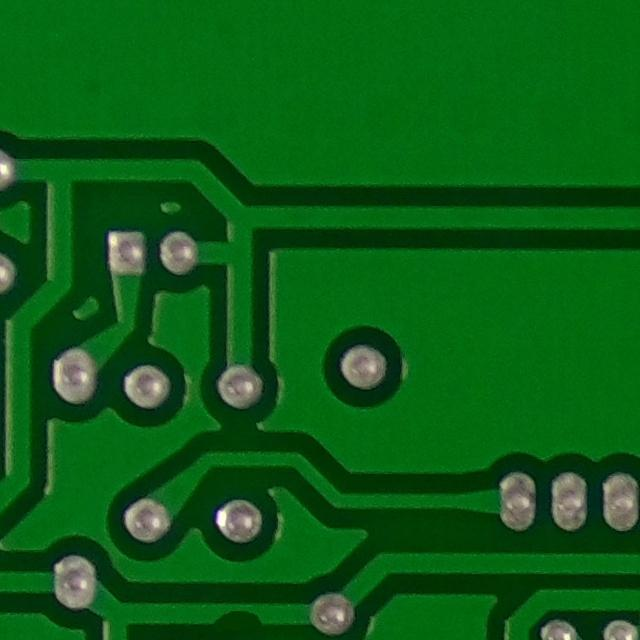mouse_bite: (195, 592, 275, 640)
